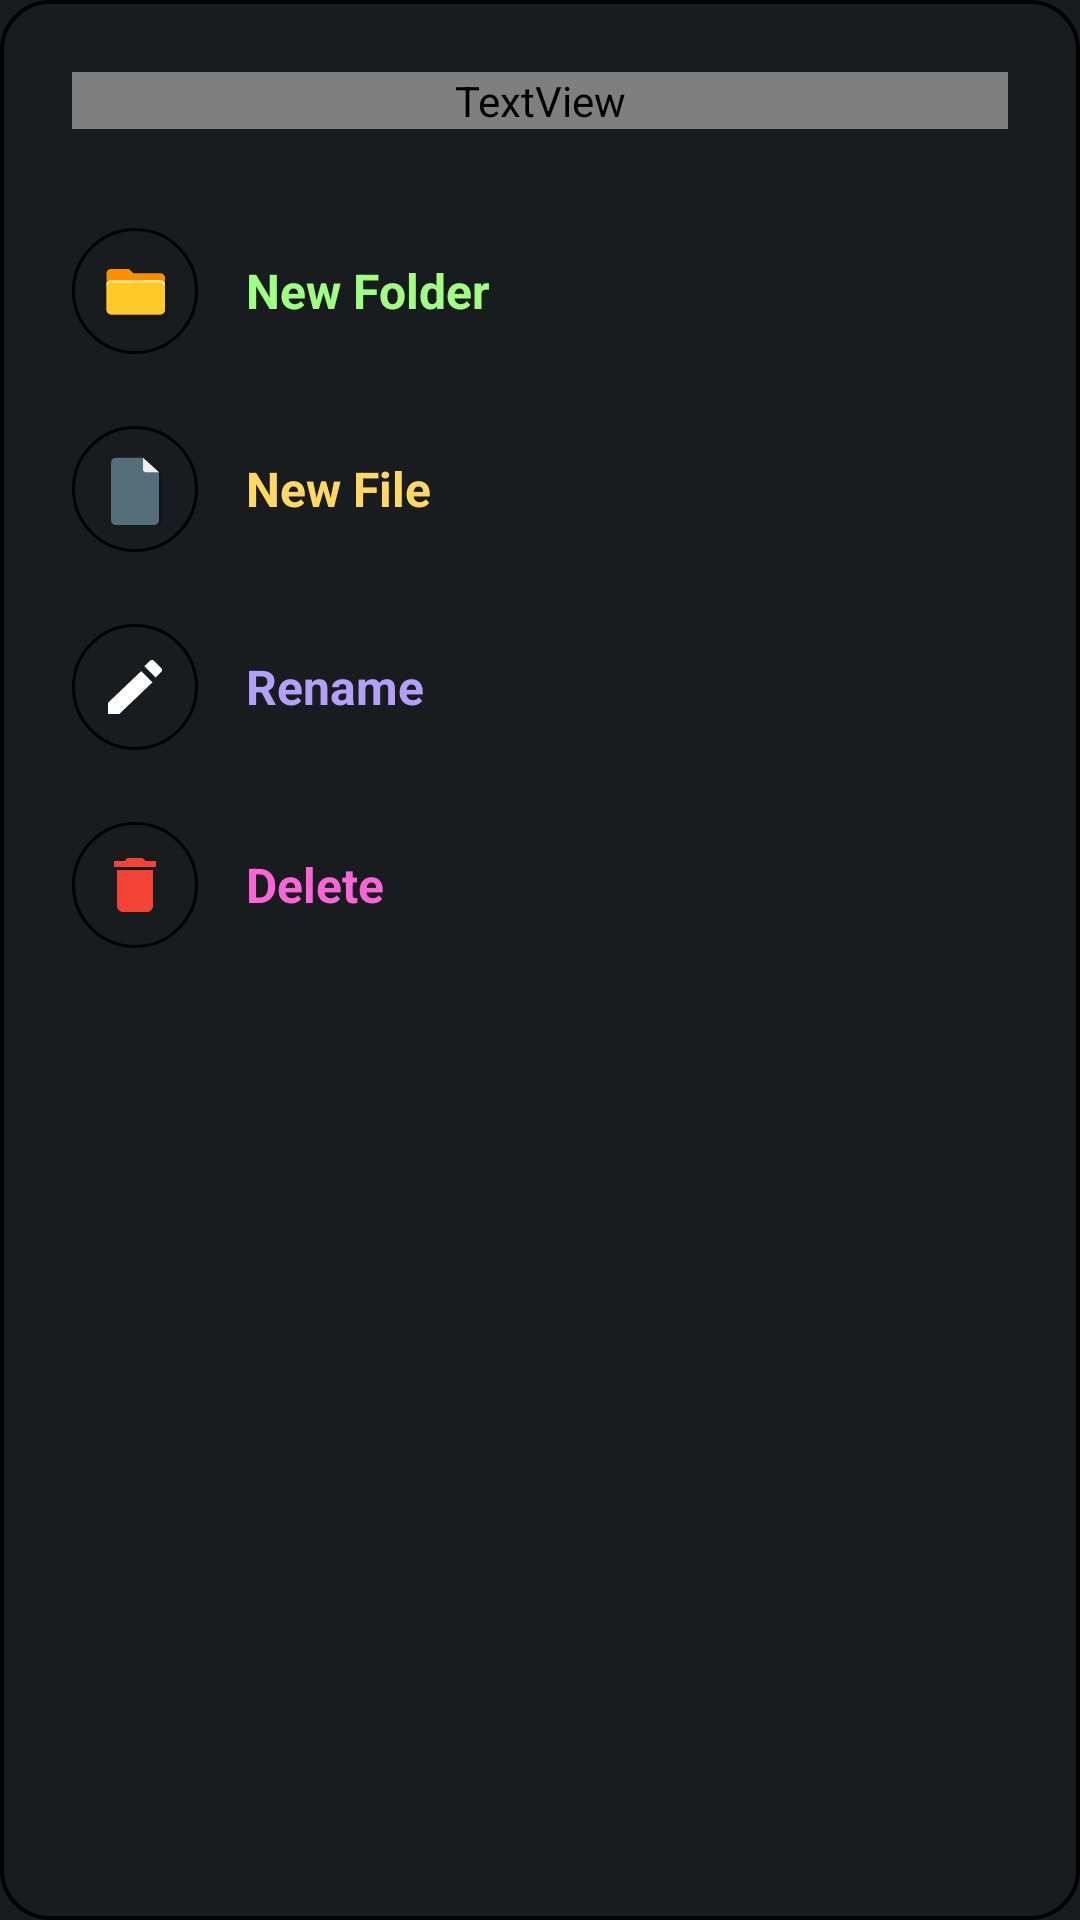

Point at icon controls on the screen. Image size 1080w x 1920h, points as (x,y).
tree file: (135,489)
tree folder: (135,291)
